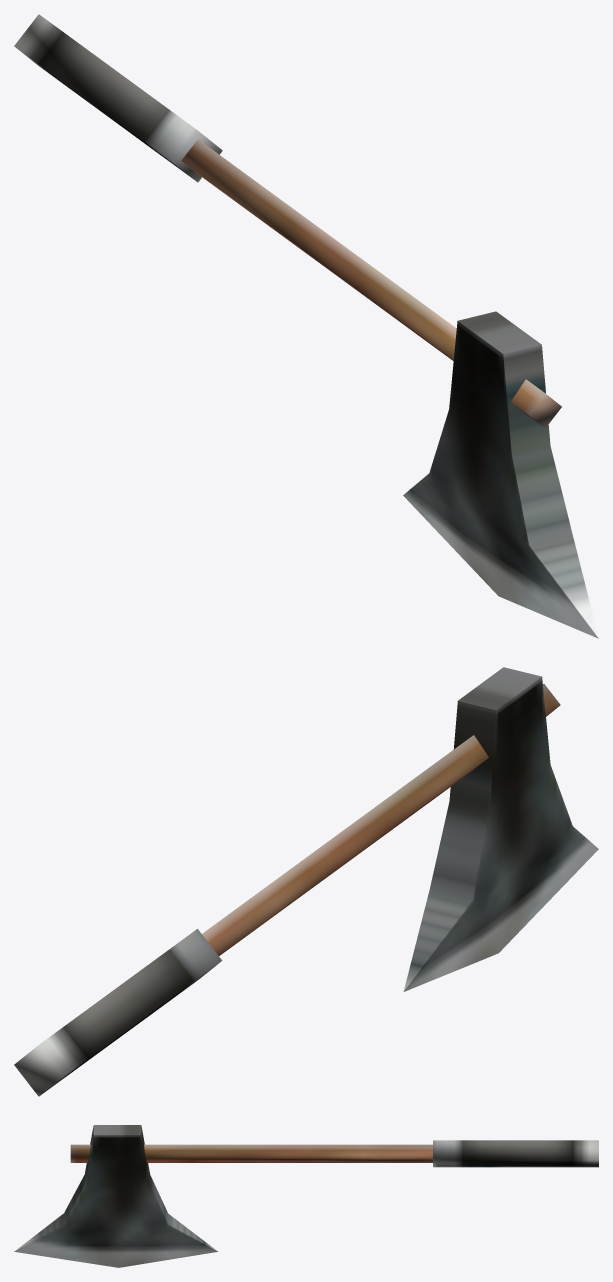
File: duanfu.FBX
The picture shows the model from 3 angles, top to bottom: view 1: azimuth 30°, elevation 25°; view 2: azimuth 150°, elevation 25°; view 3: azimuth 270°, elevation 25°; orthographic projection. The views are drawn at different scales.
Parts seen in each view (by area): view 1: Axe01; view 2: Axe01; view 3: Axe01.
Part boxes in pixels (x1,y1,x2,y2): Axe01: (14,14,598,638); Axe01: (14,667,598,1096); Axe01: (14,1125,598,1267).
Bounding box in the file's own units: 13.94 × 70.86 × 272.
